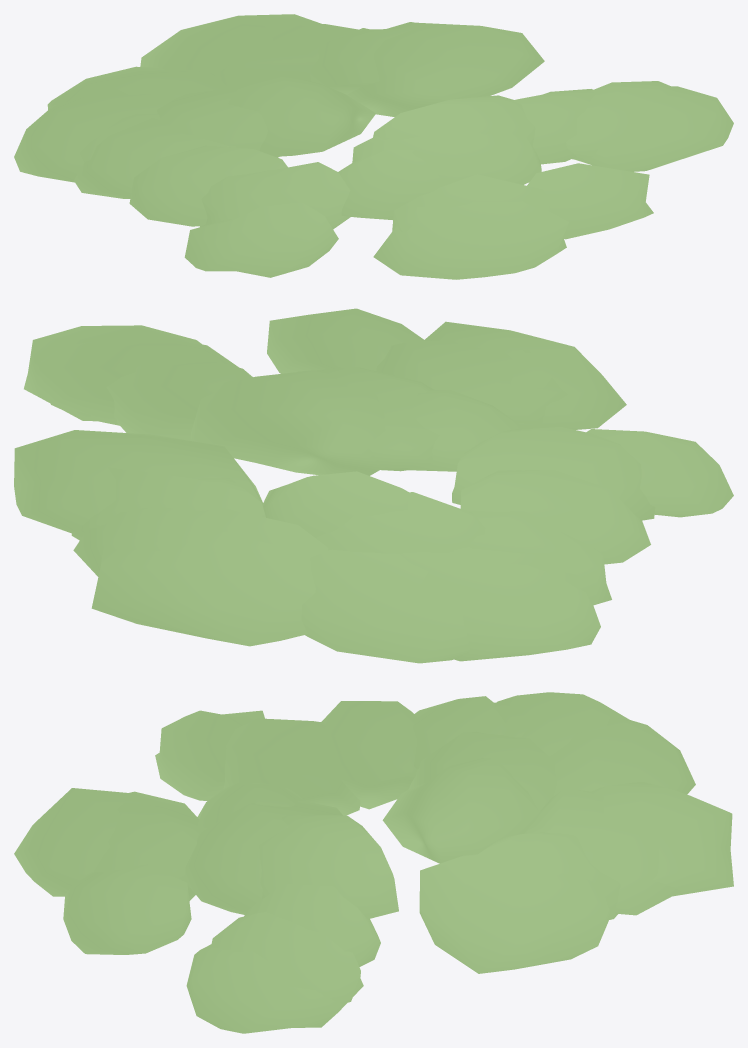
File: Blender_LakeJuniper_1.glb
The picture shows the model from 3 angles, top to bottom: view 1: azimuth 30°, elevation 25°; view 2: azimuth 150°, elevation 25°; view 3: azimuth 270°, elevation 25°; orthographic projection. The views are drawn at different scales.
Parts seen in each view (by area): view 1: Blender_LakeJuniper_1; view 2: Blender_LakeJuniper_1; view 3: Blender_LakeJuniper_1.
Part boxes in pixels (x1,y1,x2,y2): Blender_LakeJuniper_1: (14,14,733,279); Blender_LakeJuniper_1: (14,308,733,663); Blender_LakeJuniper_1: (14,692,733,1033).
Bounding box in the file's own units: 3.37 × 0.3488 × 3.12.
